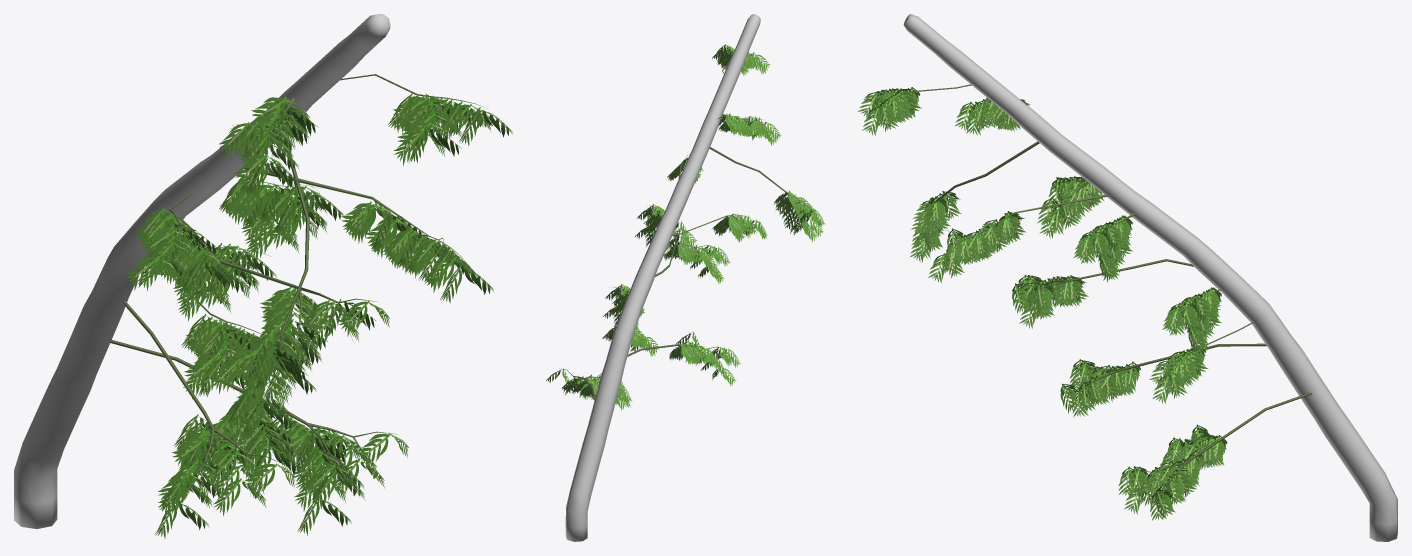
File: Model_Guadua_03.fbx
3 renders of one model, left to right at view 1: azimuth 30°, elevation 25°; view 2: azimuth 150°, elevation 25°; view 3: azimuth 270°, elevation 25°, orthographic. The views are drawn at different scales.
Parts seen in each view (by area): view 1: GLD01C.017, GuaduaTrunk.006; view 2: GuaduaTrunk.006, GLD01C.017; view 3: GLD01C.017, GuaduaTrunk.006.
Boxes of the visible parts, x1=… form: GLD01C.017: x1=125, y1=93, x2=512, y2=538; GuaduaTrunk.006: x1=14, y1=14, x2=487, y2=528; GuaduaTrunk.006: x1=559, y1=14, x2=809, y2=541; GLD01C.017: x1=546, y1=44, x2=824, y2=410; GLD01C.017: x1=857, y1=87, x2=1227, y2=520; GuaduaTrunk.006: x1=877, y1=14, x2=1397, y2=541.
Size of the model in its own units: 10.08 by 19.26 by 18.18.
